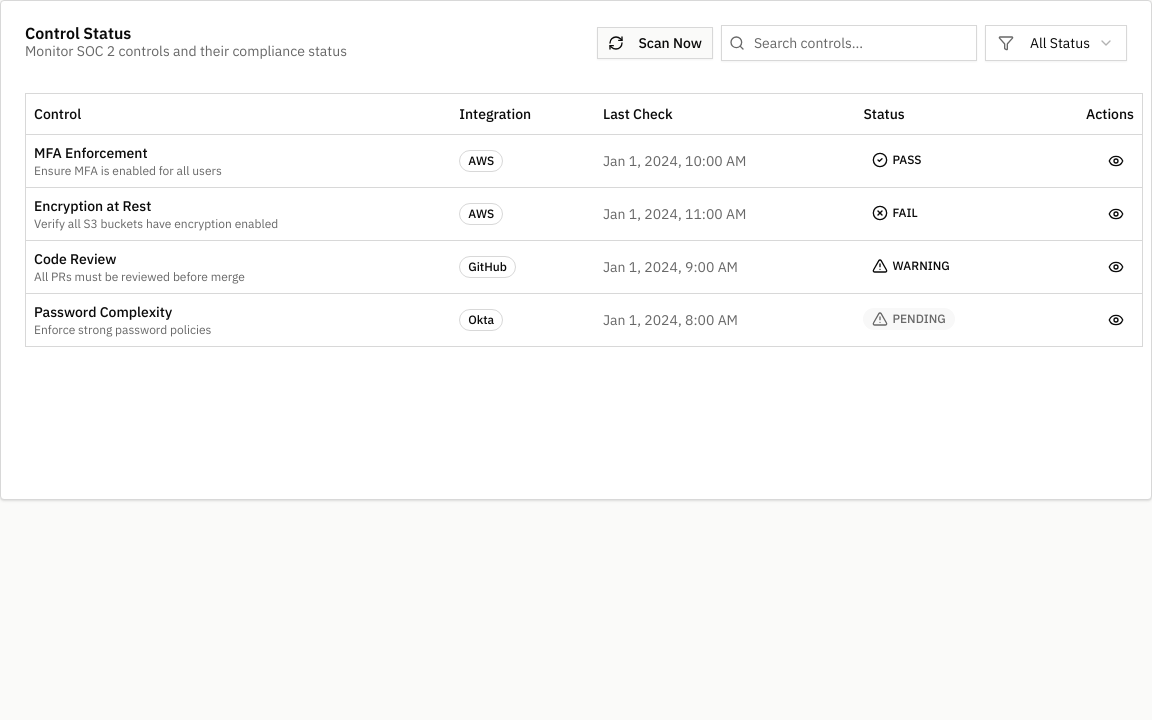
Test: ControlStatus › Search Functionality › should show no results message when search matches nothing
In the field with placeholder "Search controls...": (849, 43) top-left (721, 25), bottom-right (977, 61), type "nonexistent"
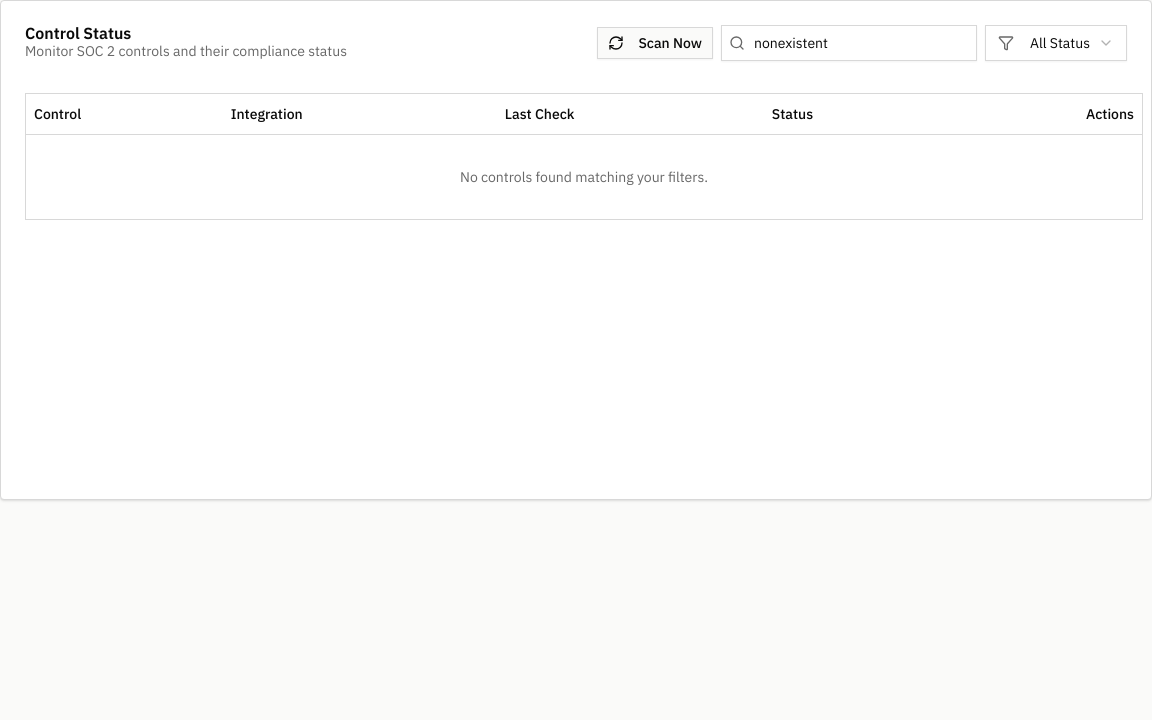
Check: the text "No controls found matching your filters." is shown, box top-left (26, 134), bottom-right (1142, 218)
